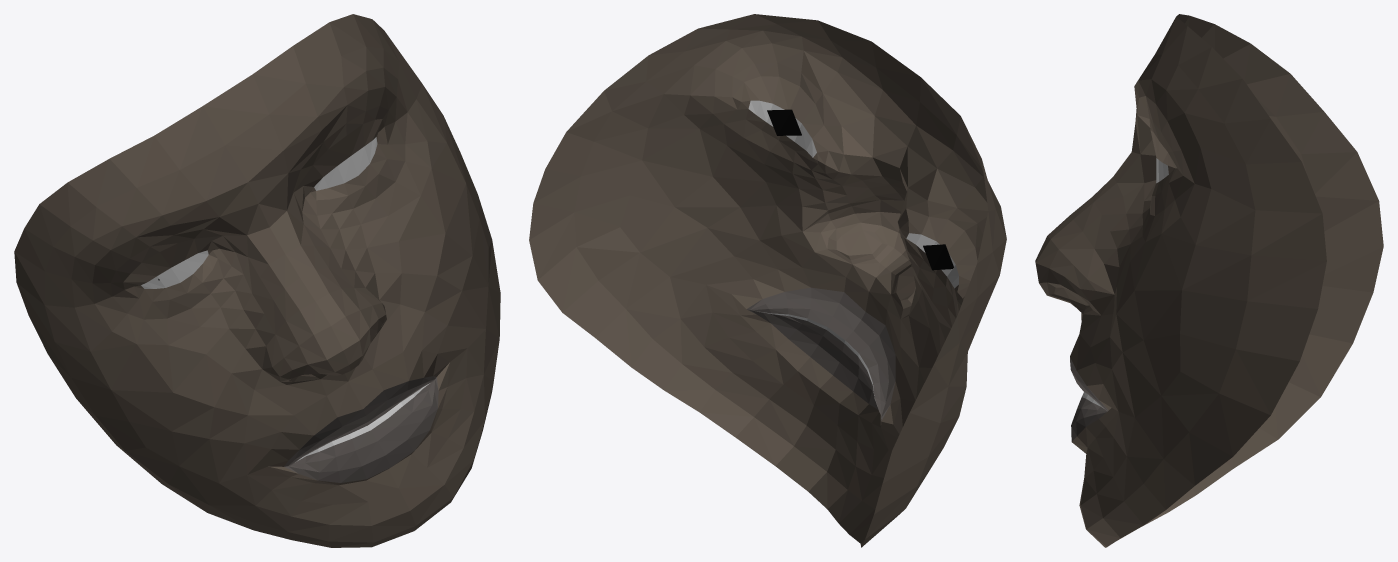
File: annoyed.obj
3 views of the same model, side by side, from view 1: azimuth 30°, elevation 25°; view 2: azimuth 150°, elevation 25°; view 3: azimuth 270°, elevation 25° (orthographic). The views are drawn at different scales.
Visible parts, largest first — view 1: face_model_with_iris; view 2: face_model_with_iris; view 3: face_model_with_iris.
Part boxes in pixels (x1=…): face_model_with_iris: x1=14, y1=14, x2=500, y2=547; face_model_with_iris: x1=529, y1=14, x2=1006, y2=547; face_model_with_iris: x1=1035, y1=14, x2=1383, y2=547.
Bounding box in the file's own units: 0.9108 × 0.9963 × 0.6318.
